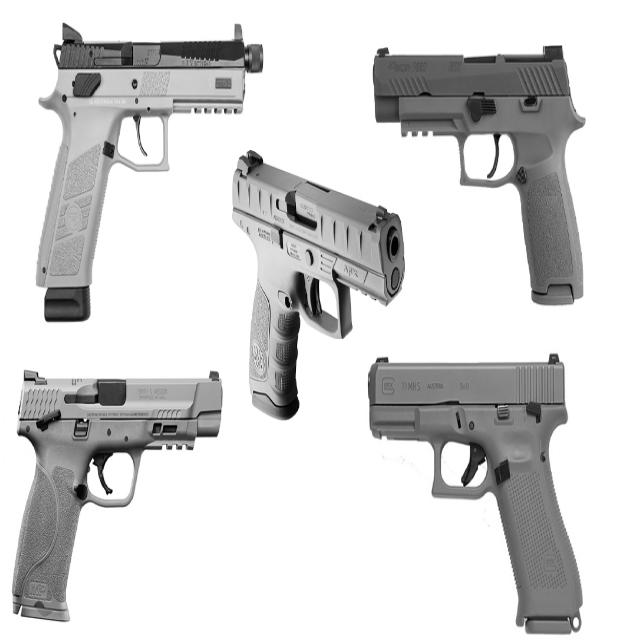Hand-Gun: (34, 36, 272, 333), (363, 338, 593, 636), (369, 37, 607, 314), (226, 142, 402, 449), (17, 366, 207, 640)
